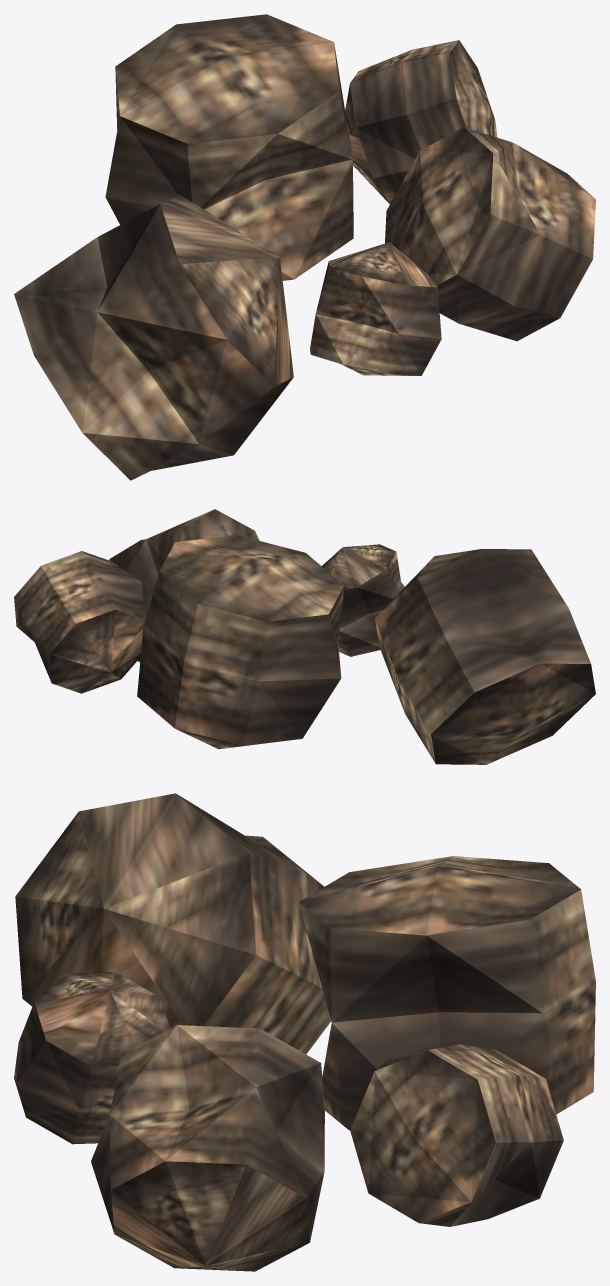
The picture shows the model from 3 angles, top to bottom: view 1: azimuth 30°, elevation 25°; view 2: azimuth 150°, elevation 25°; view 3: azimuth 270°, elevation 25°; orthographic projection. The views are drawn at different scales.
Visible parts, largest first — view 1: SMDImport; view 2: SMDImport; view 3: SMDImport.
Boxes of the visible parts, x1=… form: SMDImport: x1=14, y1=14, x2=595, y2=480; SMDImport: x1=14, y1=509, x2=595, y2=764; SMDImport: x1=14, y1=793, x2=595, y2=1271.
Bounding box in the file's own units: 217 × 102 × 155.
